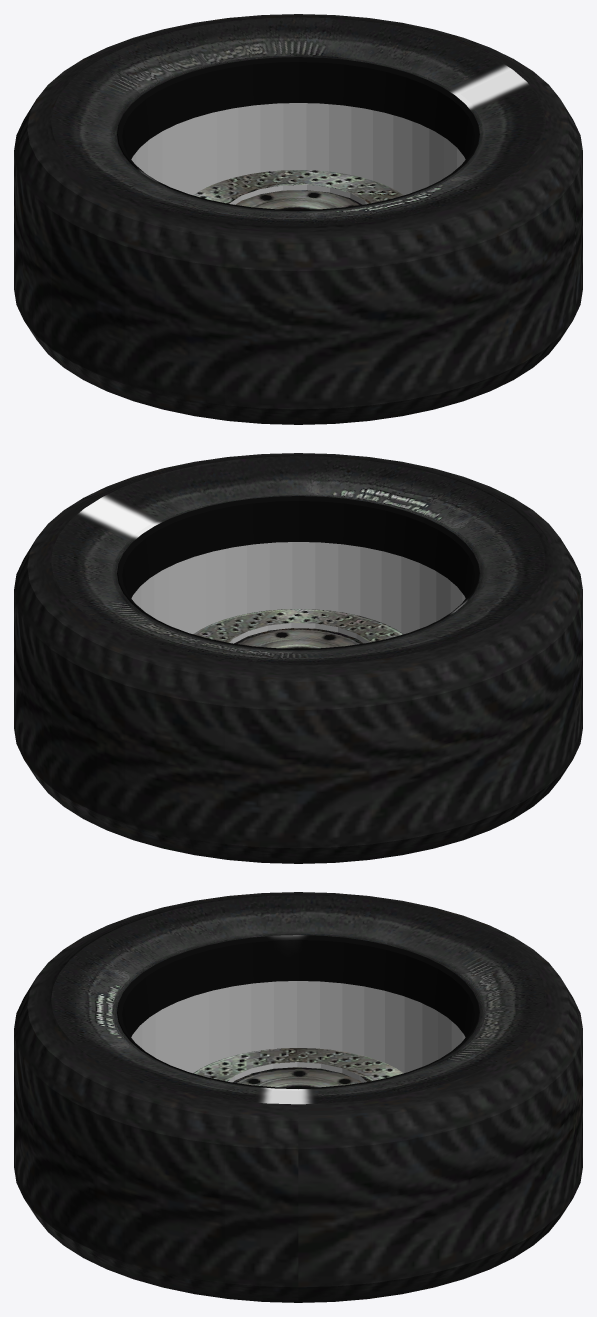
Rendered from wheel.dae.
3 views of the same model, one above another, from view 1: azimuth 30°, elevation 25°; view 2: azimuth 150°, elevation 25°; view 3: azimuth 270°, elevation 25° (orthographic).
Visible parts, largest first — view 1: node; view 2: node; view 3: node.
Boxes of the visible parts, x1=… form: node: x1=14, y1=14, x2=582, y2=424; node: x1=14, y1=453, x2=582, y2=863; node: x1=14, y1=892, x2=582, y2=1302.
Size of the model in its own units: 0.7755 by 0.2933 by 0.7755.
3 materials, 3 textured.
